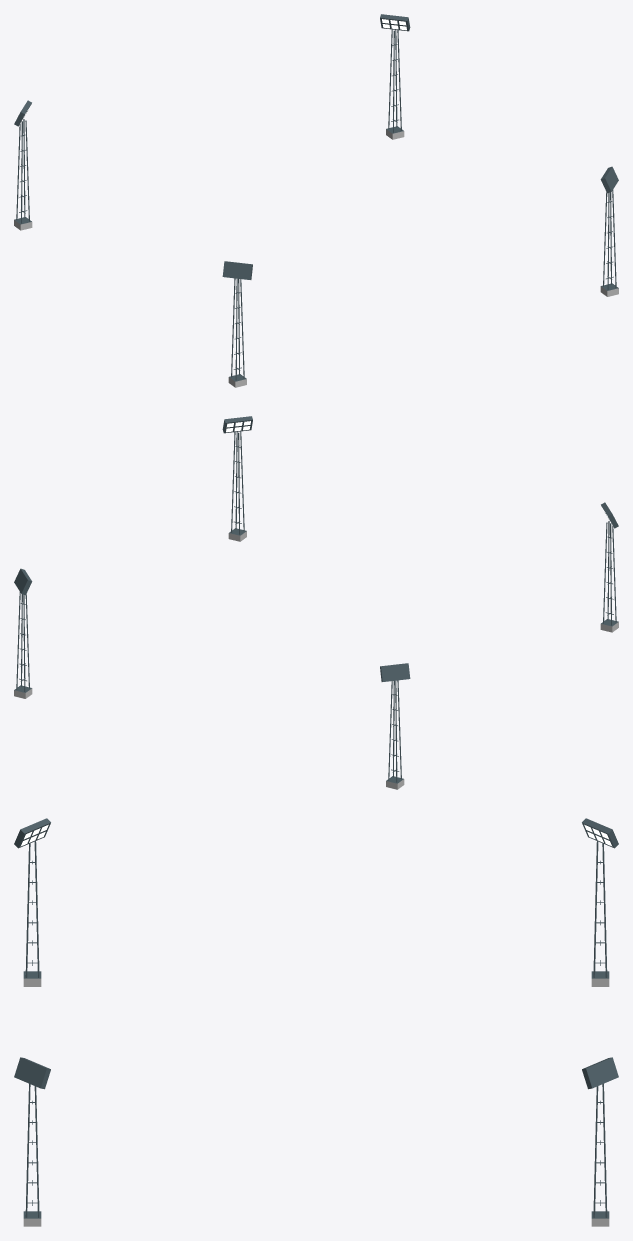
The model's file is PS_Arena_Floodlights.glb.
The picture shows the model from 3 angles, top to bottom: view 1: azimuth 30°, elevation 25°; view 2: azimuth 150°, elevation 25°; view 3: azimuth 270°, elevation 25°; orthographic projection. The views are drawn at different scales.
Visible parts, largest first — view 1: Floodlight Tower 4, Floodlight Tower 2, Floodlight Tower 1, Floodlight Tower 3; view 2: Floodlight Tower 3, Floodlight Tower 1, Floodlight Tower 2, Floodlight Tower 4; view 3: Floodlight Tower 1, Floodlight Tower 2, Floodlight Tower 3, Floodlight Tower 4.
Boxes of the visible parts, bbox=[...] form: Floodlight Tower 4: bbox=[222, 261, 252, 387]; Floodlight Tower 2: bbox=[380, 14, 410, 139]; Floodlight Tower 1: bbox=[600, 166, 618, 296]; Floodlight Tower 3: bbox=[14, 100, 32, 230]; Floodlight Tower 3: bbox=[380, 663, 410, 789]; Floodlight Tower 1: bbox=[222, 416, 252, 541]; Floodlight Tower 2: bbox=[14, 568, 32, 698]; Floodlight Tower 4: bbox=[600, 502, 618, 632]; Floodlight Tower 1: bbox=[14, 1057, 50, 1226]; Floodlight Tower 2: bbox=[582, 1057, 618, 1226]; Floodlight Tower 3: bbox=[582, 818, 618, 986]; Floodlight Tower 4: bbox=[14, 818, 50, 986].
Bounding box in the file's own units: 218 × 63.55 × 218.
Materials: 3 (2 with a texture image).
